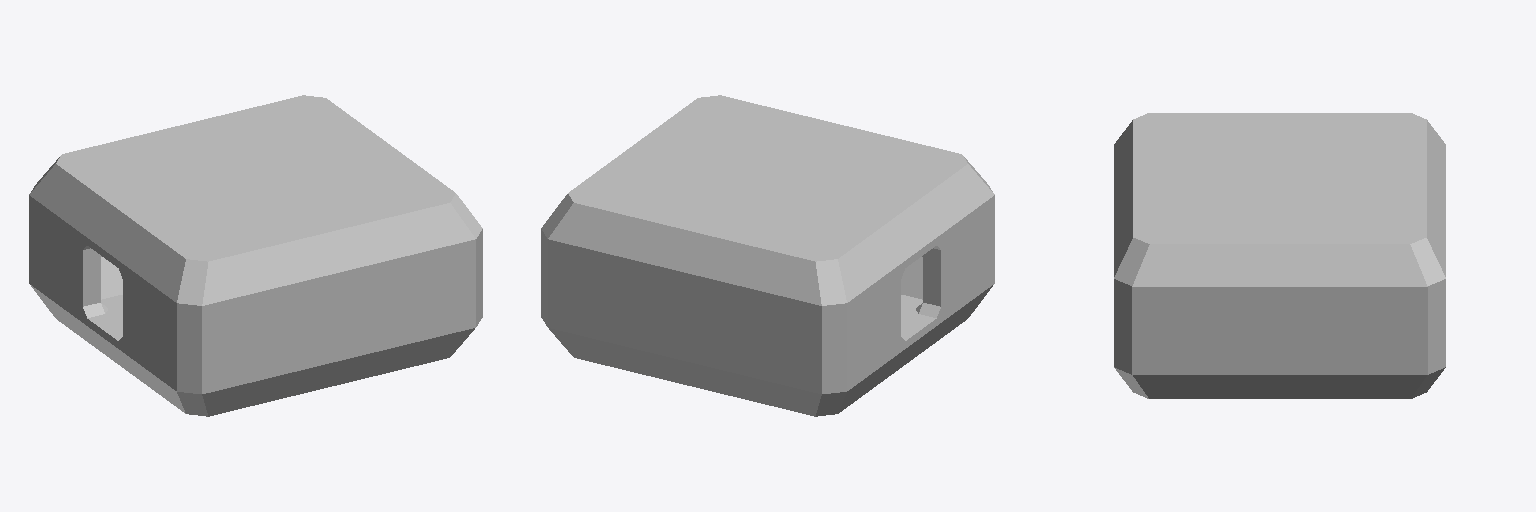
File: sst_entrance.obj
The picture shows the model from 3 angles: view 1: azimuth 30°, elevation 25°; view 2: azimuth 150°, elevation 25°; view 3: azimuth 270°, elevation 25°; orthographic projection.
Parts seen in each view (by area): view 1: shell_Cube; view 2: shell_Cube; view 3: shell_Cube.
Part boxes in pixels (x1,y1,x2,y2): shell_Cube: (29,95,482,416); shell_Cube: (541,95,994,416); shell_Cube: (1114,113,1445,398).
Bounding box in the file's own units: 7.25 × 3.51 × 6.82.